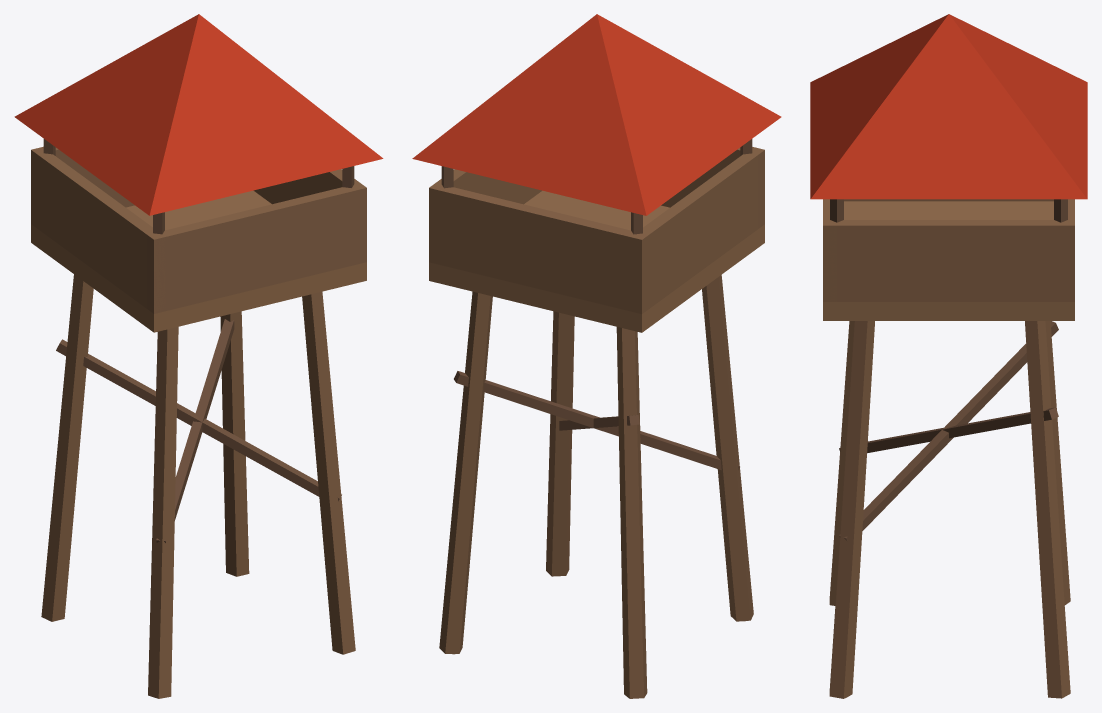
Rendered from watchtower.glb.
3 views of the same model, side by side, from view 1: azimuth 30°, elevation 25°; view 2: azimuth 150°, elevation 25°; view 3: azimuth 270°, elevation 25° (orthographic). The views are drawn at different scales.
Parts seen in each view (by area): view 1: watchtower; view 2: watchtower; view 3: watchtower.
Boxes of the visible parts, x1,y1,x2,y2 form: watchtower: (14,14,383,698); watchtower: (412,14,781,698); watchtower: (810,14,1087,698).
Bounding box in the file's own units: 1.98 × 5 × 1.98.
